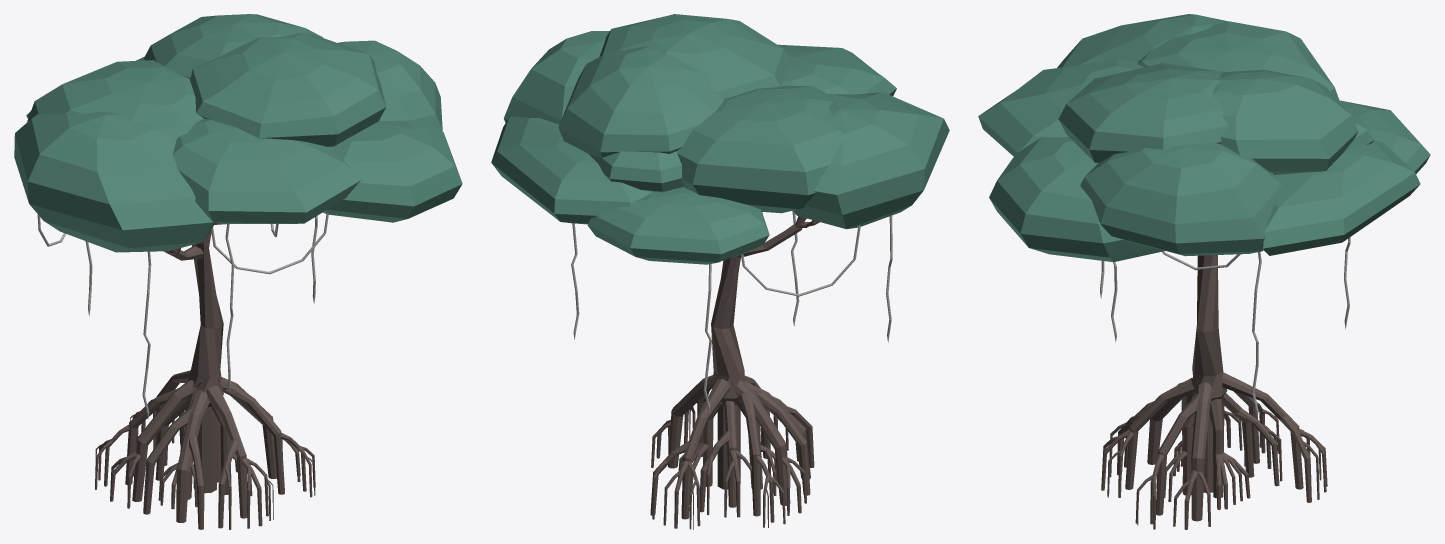
The model's file is arvoreMangueCipo.fbx.
3 renders of one model, left to right at view 1: azimuth 30°, elevation 25°; view 2: azimuth 150°, elevation 25°; view 3: azimuth 270°, elevation 25°, orthographic. The views are drawn at different scales.
Parts seen in each view (by area): view 1: copa_geo, tronco_geo, raiz_ramificacao_geo1 (×4), raiz_principal_geo4, raiz_principal_geo5, raiz_principal_geo1, raiz_principal_geo2, raiz_ramificacao_geo2, pCylinder36, pCylinder39, pCylinder37; view 2: copa_geo, tronco_geo, raiz_ramificacao_geo1 (×3), raiz_principal_geo3 (×2), raiz_principal_geo4, raiz_principal_geo2, ramo_principal_geo, pCylinder43; view 3: copa_geo, tronco_geo, raiz_principal_geo2 (×2), raiz_ramificacao_geo1 (×3), raiz_principal_geo3 (×2), raiz_principal_geo1 (×2), raiz_principal_geo5, pCylinder38.
Boxes of the visible parts, x1,y1,x2,y2 form: copa_geo: [14, 14, 462, 252]; tronco_geo: [188, 230, 223, 493]; raiz_ramificacao_geo1 (×4): [125, 383, 284, 528]; raiz_principal_geo4: [132, 379, 219, 501]; raiz_principal_geo5: [176, 390, 209, 522]; raiz_principal_geo1: [205, 386, 247, 518]; raiz_principal_geo2: [196, 377, 276, 478]; raiz_ramificacao_geo2: [189, 435, 204, 529]; pCylinder36: [142, 251, 151, 419]; pCylinder39: [225, 224, 234, 392]; pCylinder37: [211, 214, 328, 274]; copa_geo: [491, 14, 949, 264]; tronco_geo: [711, 256, 744, 489]; raiz_ramificacao_geo1 (×3): [700, 391, 810, 516]; raiz_principal_geo3 (×2): [681, 378, 737, 519]; raiz_principal_geo4: [714, 375, 790, 505]; raiz_principal_geo2: [668, 375, 733, 468]; ramo_principal_geo: [738, 216, 805, 257]; pCylinder43: [741, 225, 860, 296]; copa_geo: [978, 14, 1430, 262]; tronco_geo: [1191, 255, 1227, 492]; raiz_principal_geo2 (×2): [1191, 382, 1223, 521]; raiz_ramificacao_geo1 (×3): [1156, 393, 1311, 515]; raiz_principal_geo3 (×2): [1221, 372, 1303, 489]; raiz_principal_geo1 (×2): [1125, 378, 1194, 495]; raiz_principal_geo5: [1147, 382, 1183, 464]; pCylinder38: [1252, 251, 1261, 417].
Bounding box in the file's own units: 4.15 × 4.21 × 3.93.
